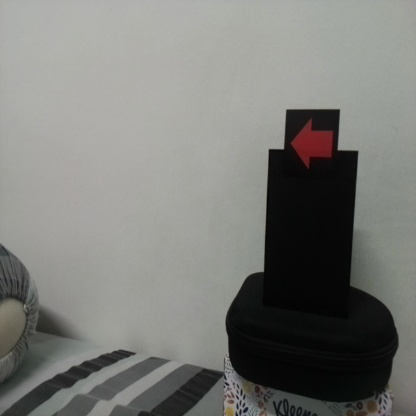id_4: (286, 111, 338, 176)
